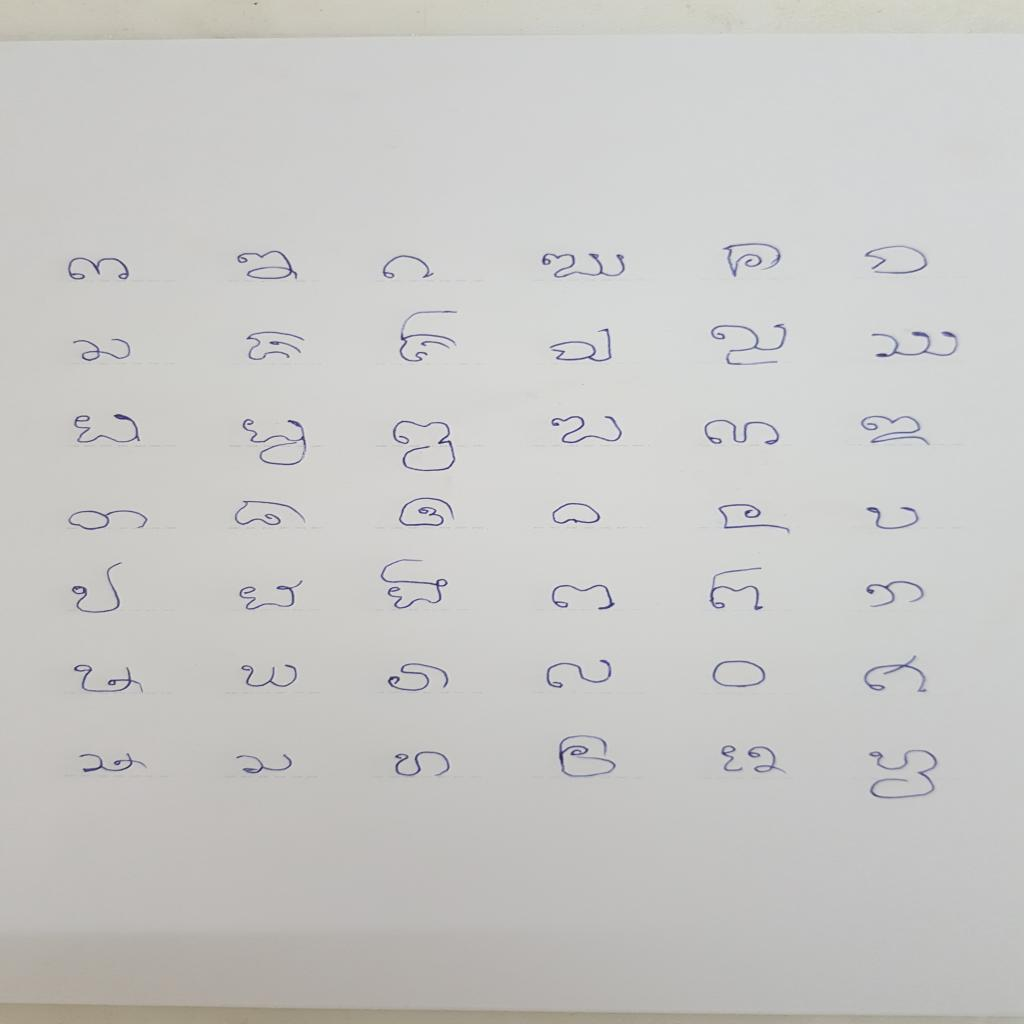LN001: (62, 255, 136, 284)
LN002: (227, 248, 308, 285)
LN003: (375, 252, 443, 284)
LN004: (537, 250, 635, 284)
LN006: (857, 242, 938, 281)
LN007: (66, 336, 139, 367)
LN008: (241, 329, 313, 366)
LN011: (705, 321, 795, 371)
LN012: (865, 327, 968, 363)
LN013: (64, 411, 151, 448)
LN014: (235, 415, 316, 470)
LN015: (387, 417, 466, 476)
LN016: (543, 413, 628, 449)
LN017: (699, 418, 787, 451)
LN018: (855, 413, 938, 452)
LN019: (64, 507, 155, 534)
LN020: (227, 496, 316, 532)
LN021: (392, 494, 464, 532)
LN022: (545, 500, 609, 528)
LN024: (857, 504, 928, 535)
LN025: (63, 560, 131, 617)
LN026: (235, 576, 312, 615)
LN027: (376, 557, 457, 614)
LN028: (544, 581, 622, 615)
LN029: (702, 563, 774, 618)
LN030: (858, 578, 932, 613)
LN031: (68, 661, 153, 700)
LN032: (234, 661, 306, 692)
LN033: (382, 660, 456, 696)
LN034: (541, 656, 621, 694)
LN035: (706, 658, 773, 692)
LN036: (859, 654, 939, 699)
LN037: (74, 750, 154, 778)
LN039: (387, 748, 457, 781)
LN040: (552, 732, 624, 784)
LN041: (716, 743, 793, 779)
LN042: (864, 747, 945, 804)
